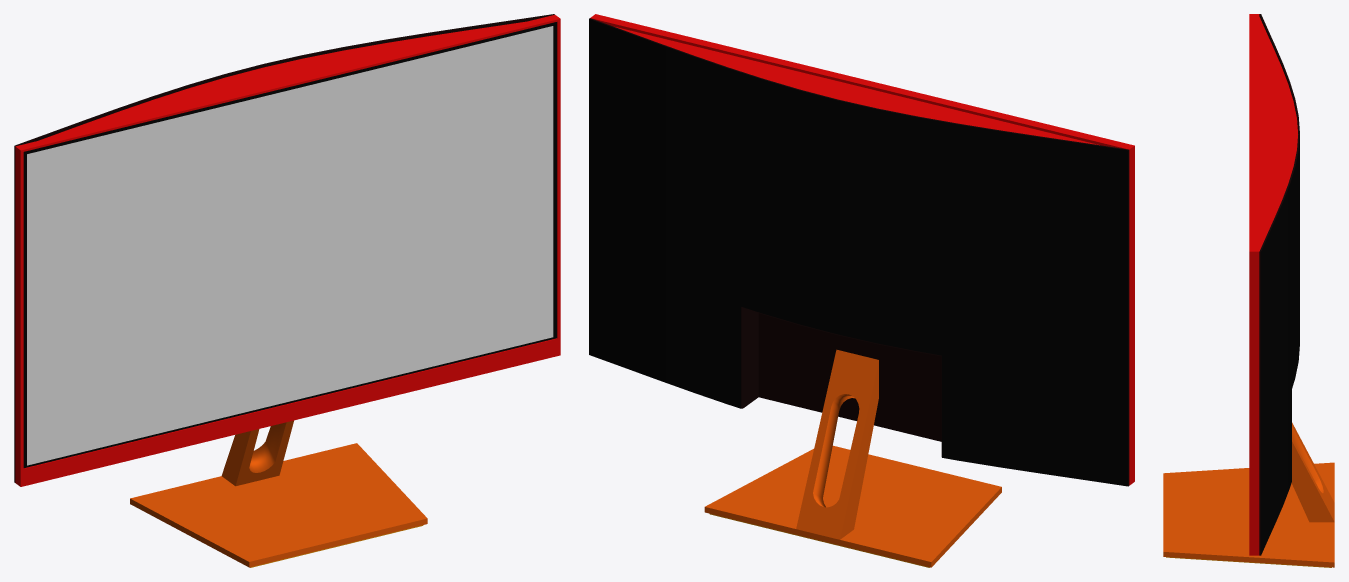
File: Ecran Iut.fbx
3 renders of one model, left to right at view 1: azimuth 30°, elevation 25°; view 2: azimuth 150°, elevation 25°; view 3: azimuth 270°, elevation 25°, orthographic. The views are drawn at different scales.
Parts seen in each view (by area): view 1: Dalle Ecran, Ecran, Support; view 2: Ecran, Support; view 3: Ecran, Support.
Boxes of the visible parts, x1,y1,x2,y2 form: Dalle Ecran: [27, 26, 553, 465]; Ecran: [14, 14, 560, 486]; Support: [130, 420, 427, 567]; Ecran: [589, 14, 1134, 486]; Support: [704, 349, 1001, 567]; Ecran: [1249, 14, 1299, 555]; Support: [1163, 422, 1334, 567].
Bounding box in the file's own units: 61.1 × 46.34 × 18.6.
